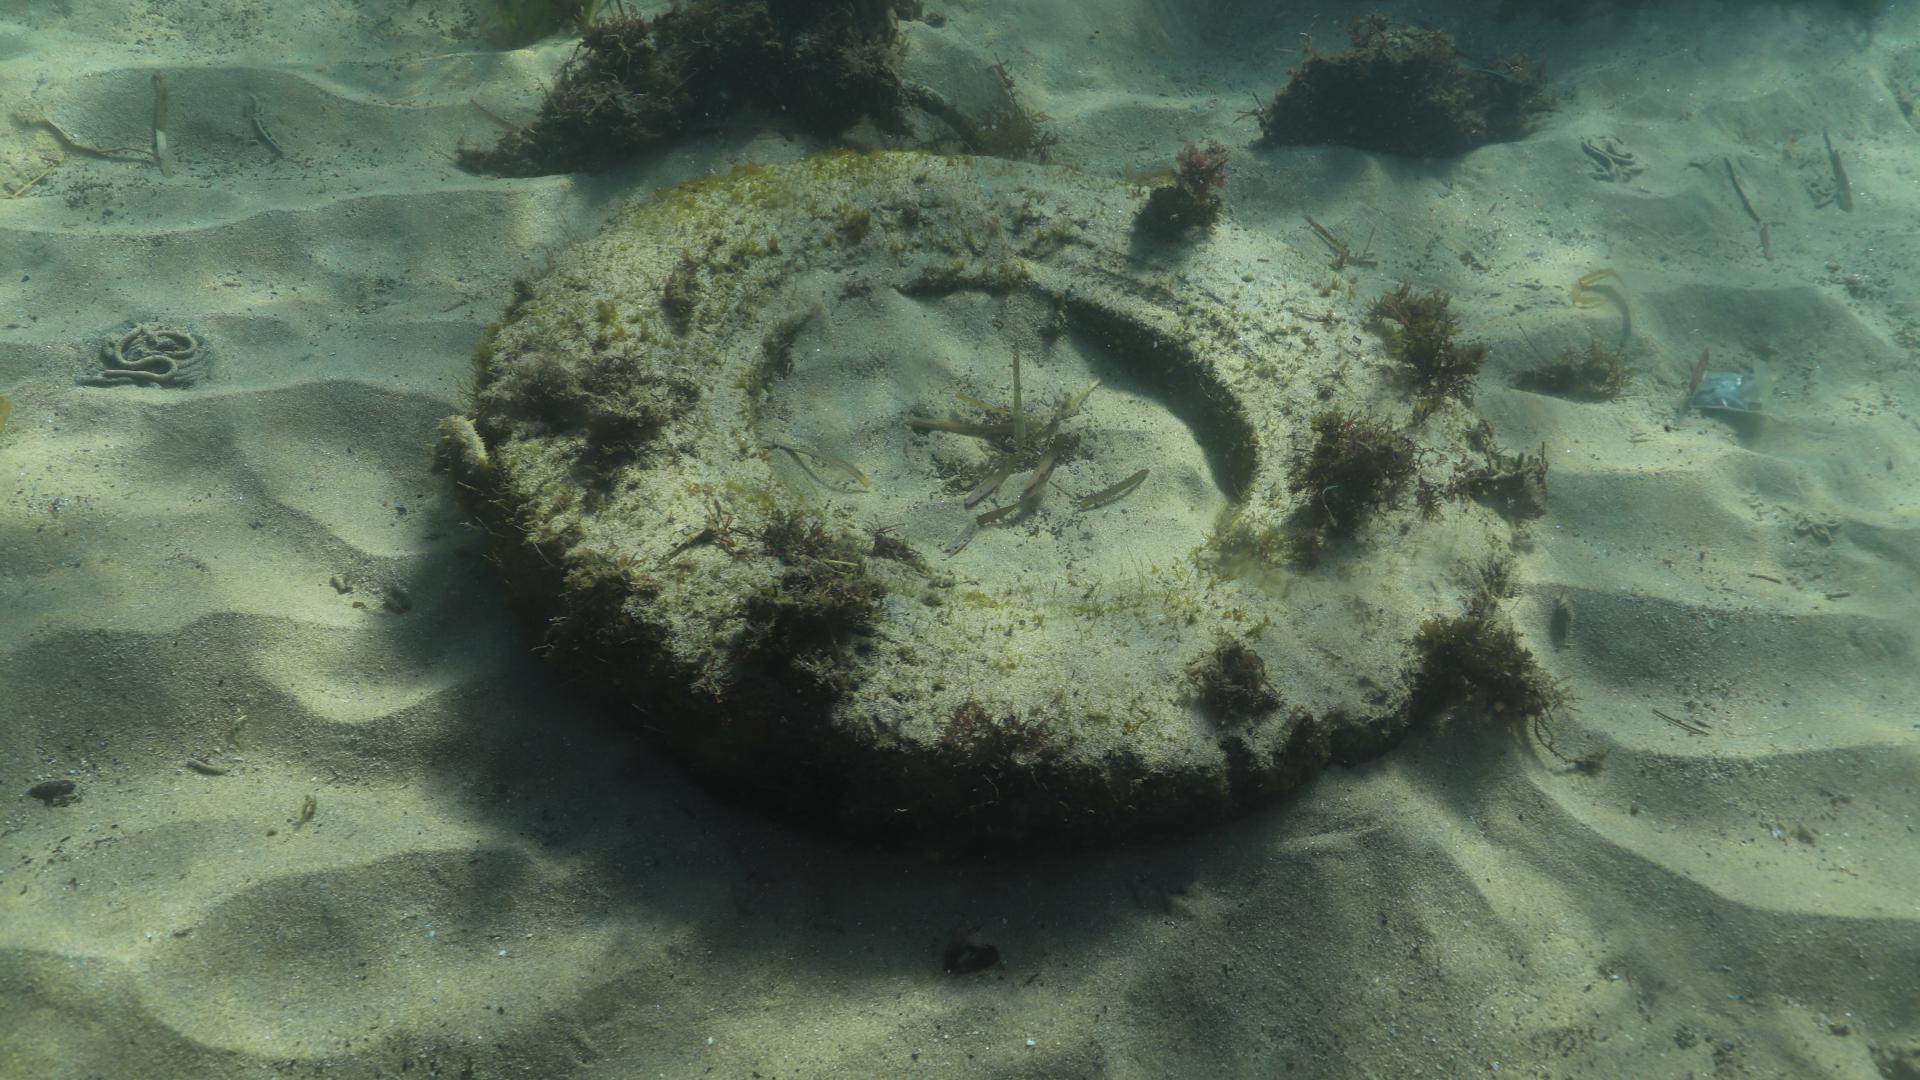tire: (476, 146, 1514, 858)
